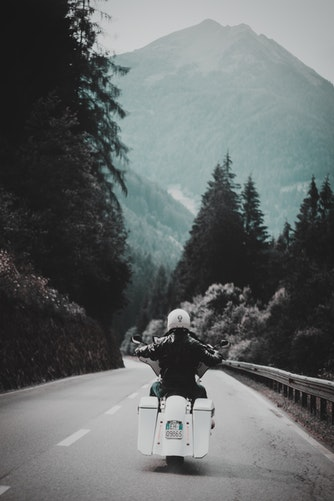helmet: (166, 301, 196, 340)
